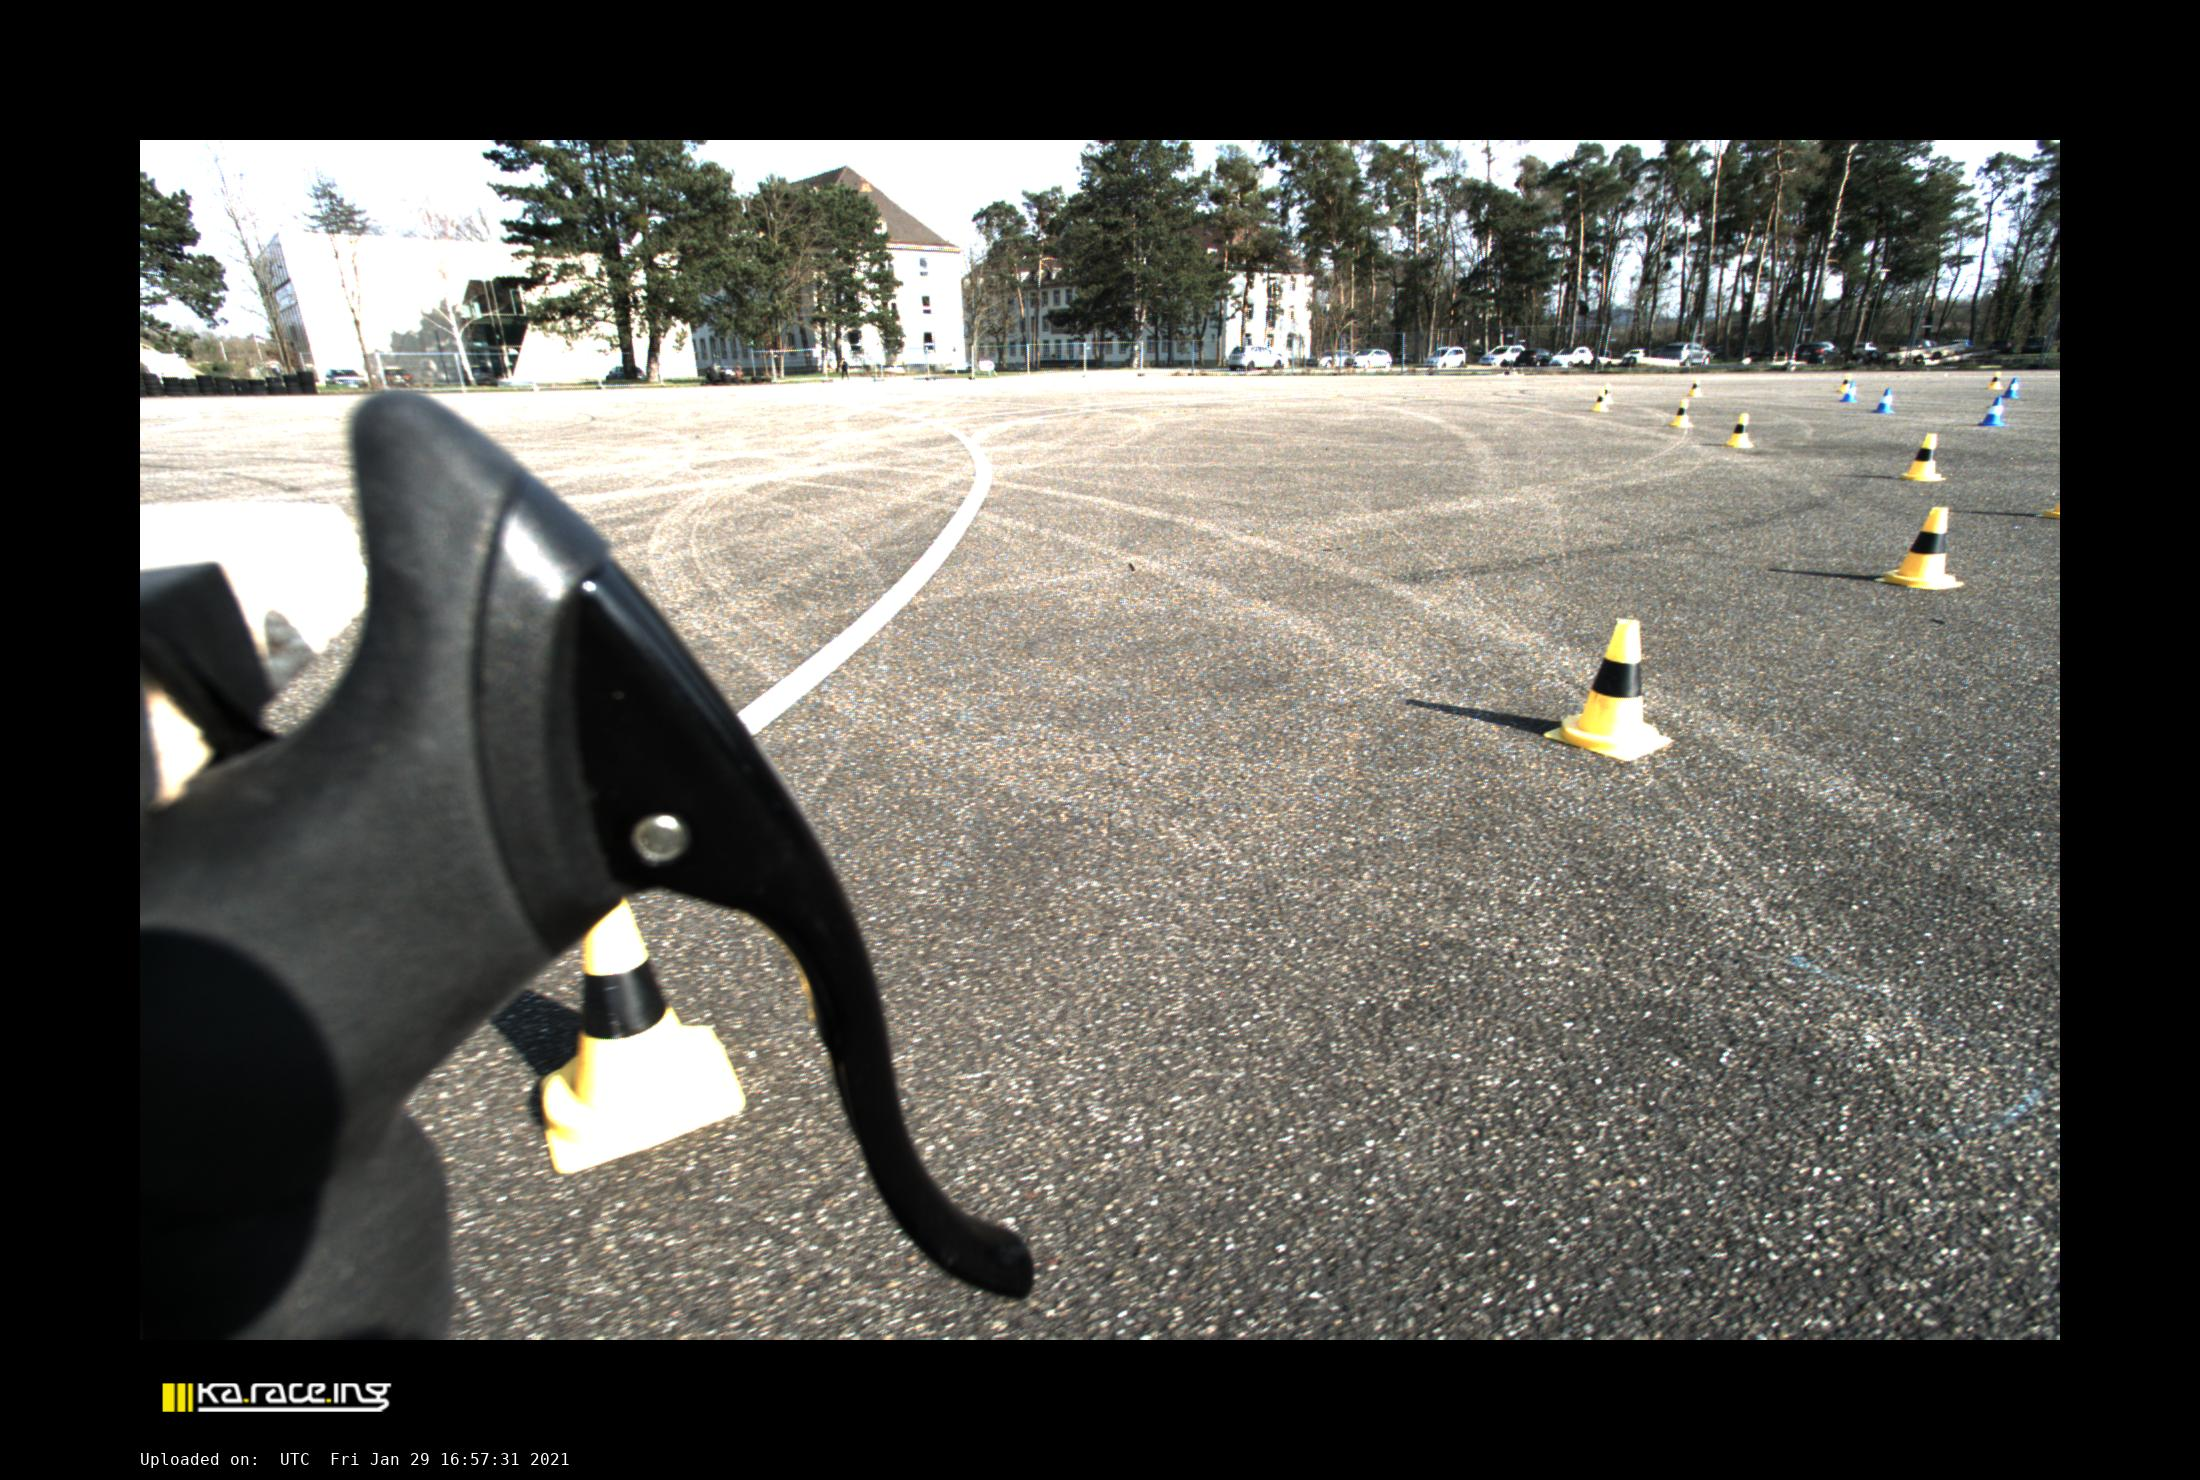blue_cone: (1979, 396, 2005, 426), (1871, 388, 1894, 413), (1838, 382, 1858, 401), (2003, 378, 2018, 398)
yellow_cone: (542, 900, 745, 1174), (1544, 619, 1671, 760), (1876, 507, 1964, 590), (1898, 434, 1946, 481), (1724, 413, 1754, 448), (1671, 400, 1693, 428), (1594, 390, 1609, 411), (1686, 378, 1703, 396), (1987, 372, 2003, 390), (1837, 373, 1852, 391), (1605, 383, 1614, 405)
